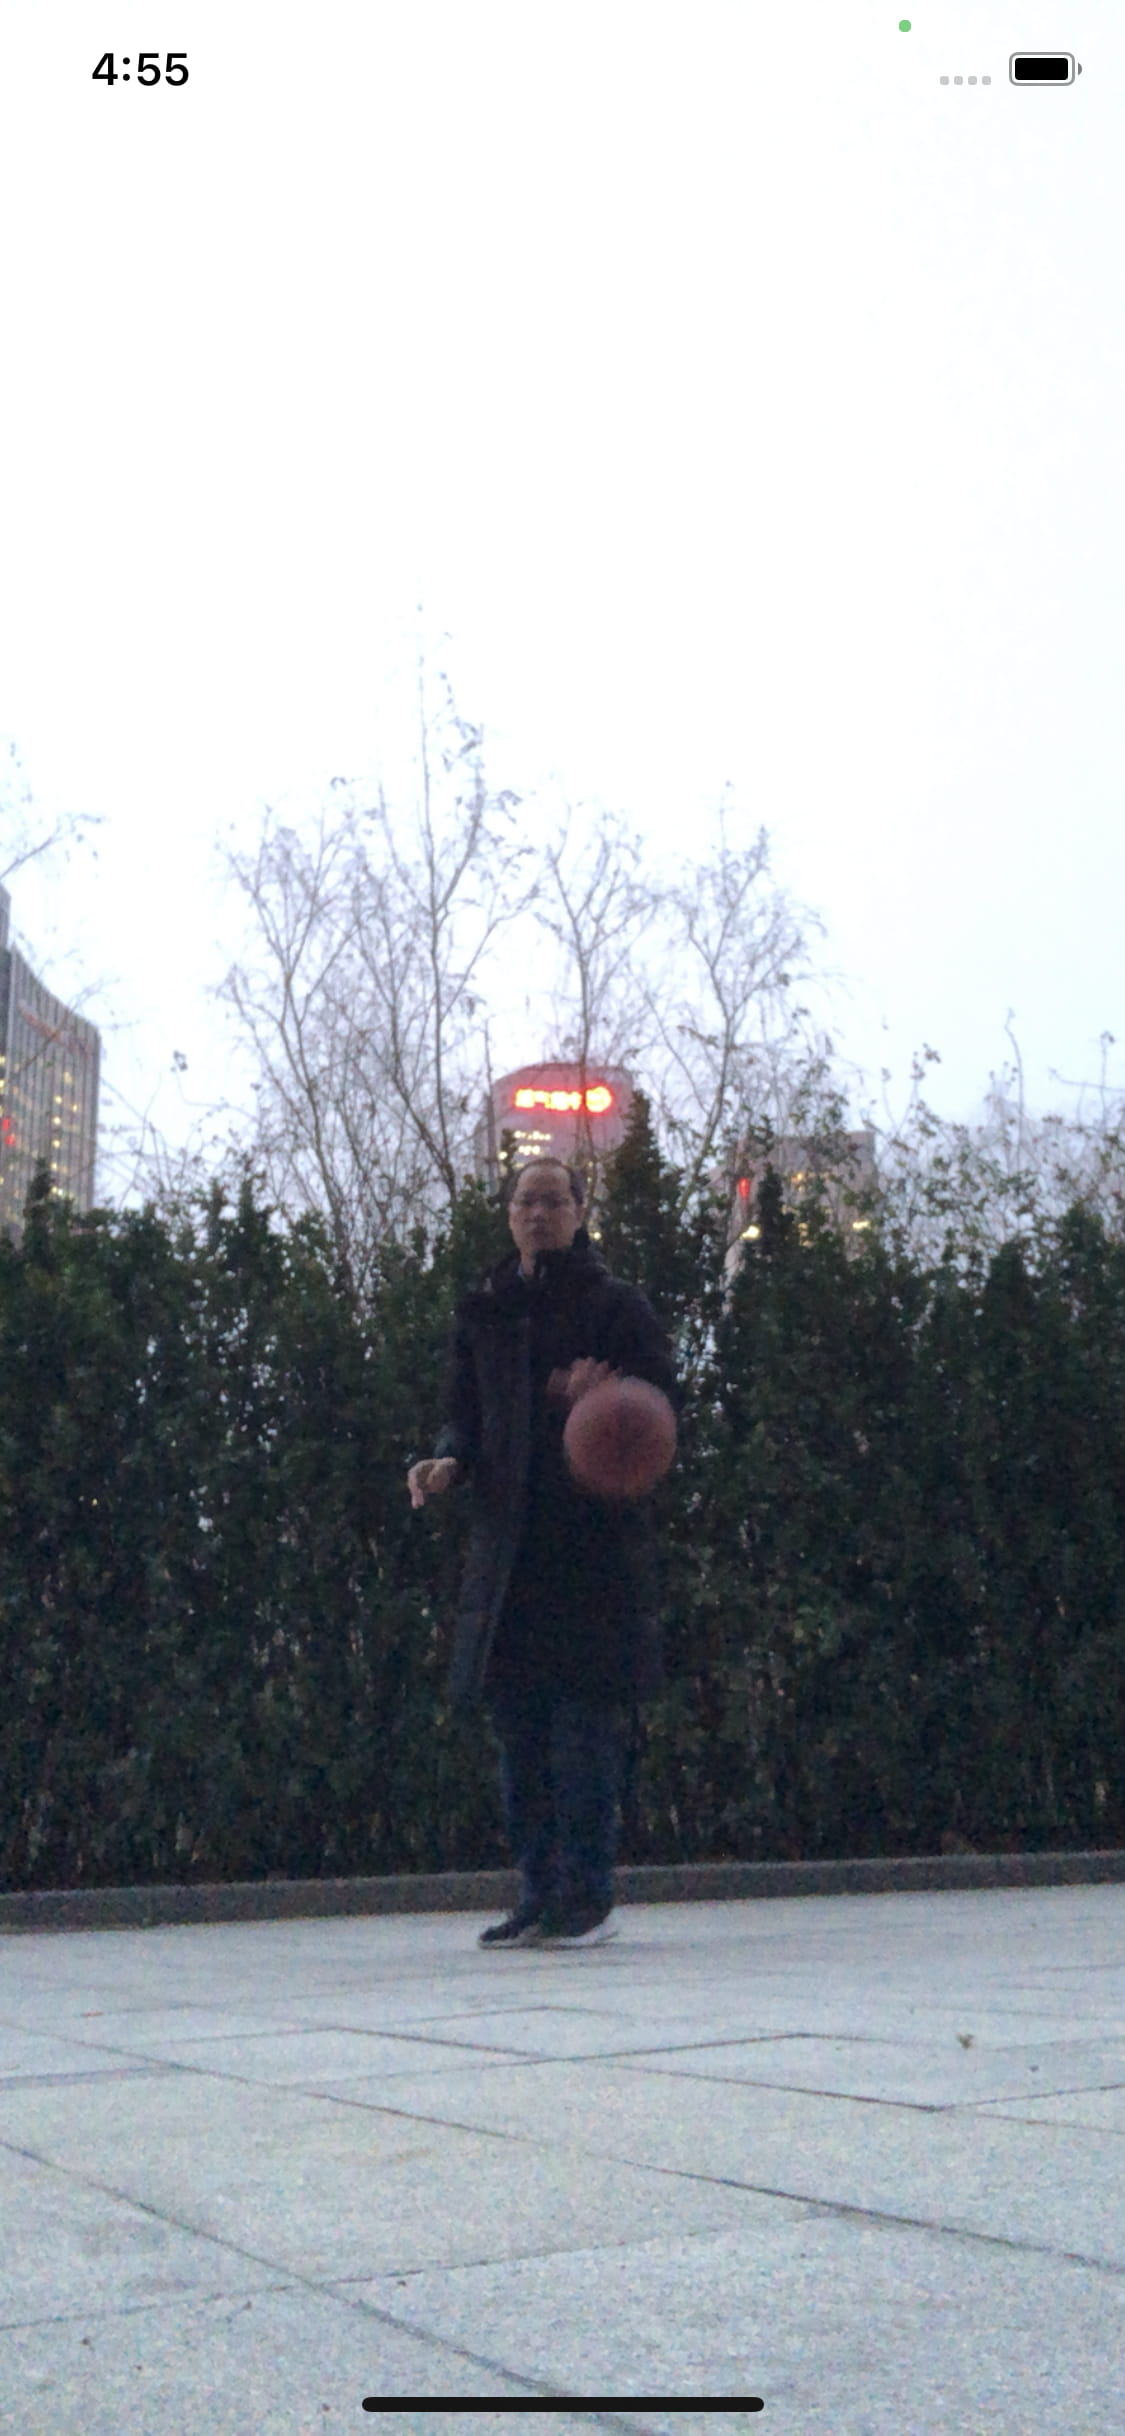ball: (559, 1375, 681, 1488)
